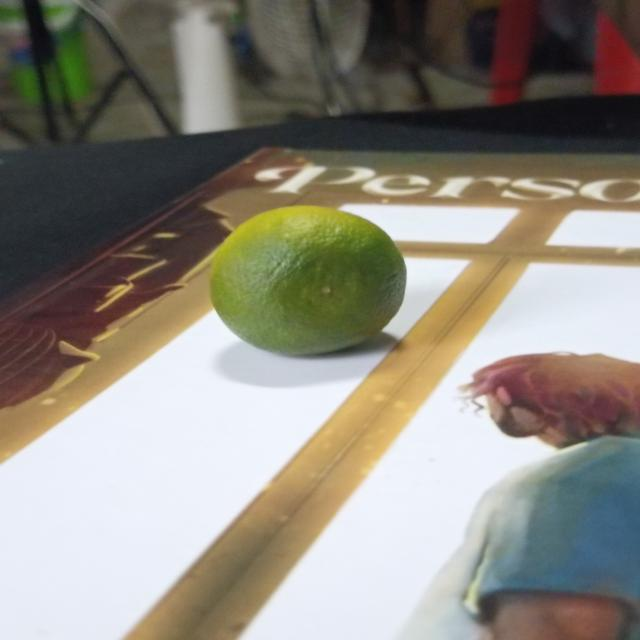heathy: (204, 210, 405, 354)
